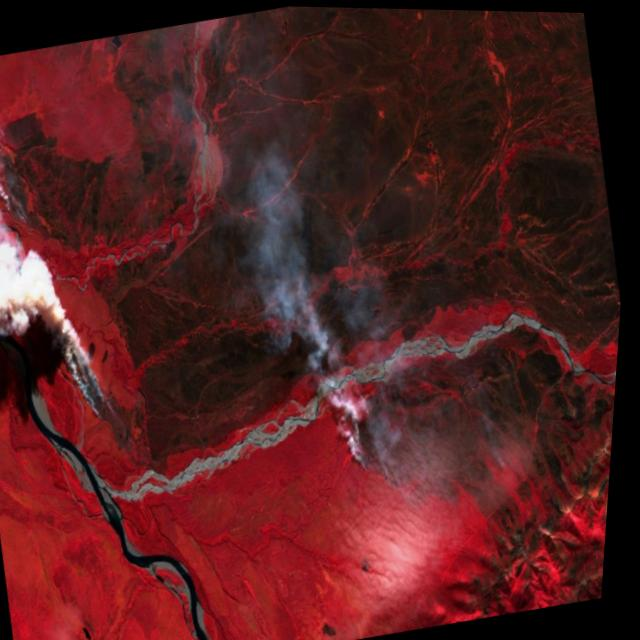fire: (17, 275, 150, 449), (323, 348, 458, 518), (0, 98, 58, 241)
